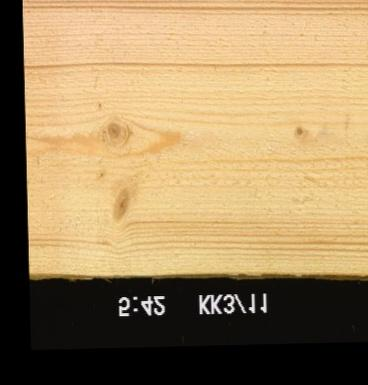small_knot: (292, 124, 304, 137)
sound_knot: (101, 117, 124, 146)
wave: (28, 273, 134, 281)
